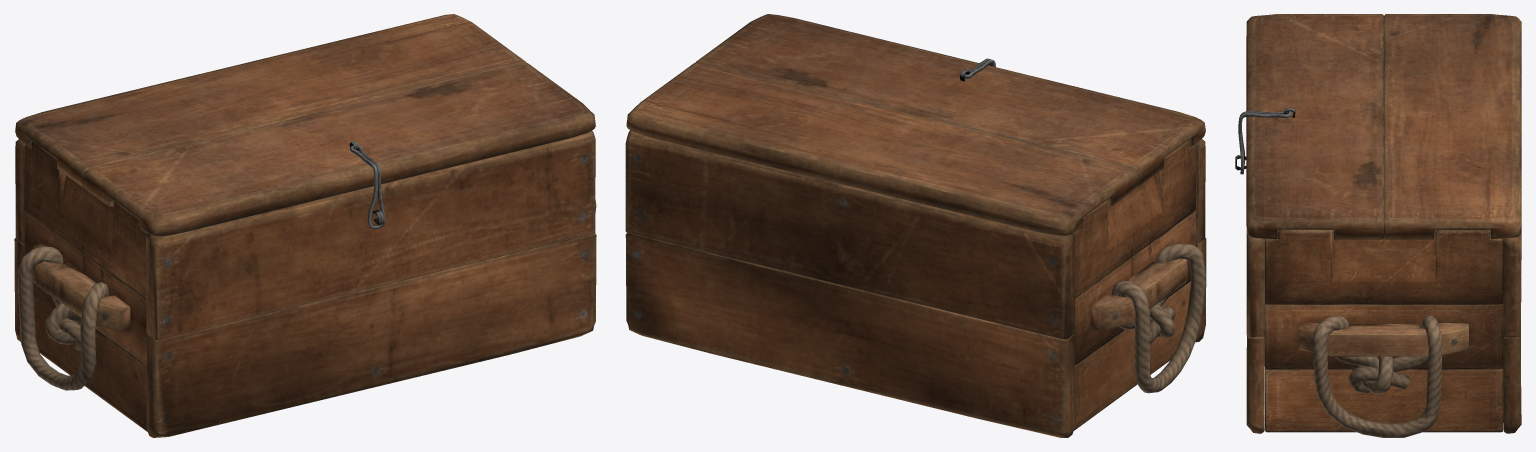
Rendered from wooden_crate_01.glb.
The picture shows the model from 3 angles, left to right: view 1: azimuth 30°, elevation 25°; view 2: azimuth 150°, elevation 25°; view 3: azimuth 270°, elevation 25°; orthographic projection. The views are drawn at different scales.
Visible parts, largest first — view 1: wooden_crate_01, wooden_crate_01_lid, wooden_crate_01_latch; view 2: wooden_crate_01, wooden_crate_01_lid; view 3: wooden_crate_01_lid, wooden_crate_01, wooden_crate_01_latch.
Boxes of the visible parts, left/top/right/bottom form: wooden_crate_01: left=14, top=131, right=596, bottom=437; wooden_crate_01_lid: left=15, top=14, right=595, bottom=236; wooden_crate_01_latch: left=350, top=145, right=385, bottom=229; wooden_crate_01: left=625, top=130, right=1206, bottom=437; wooden_crate_01_lid: left=626, top=14, right=1205, bottom=236; wooden_crate_01_lid: left=1246, top=14, right=1521, bottom=239; wooden_crate_01: left=1235, top=155, right=1521, bottom=437; wooden_crate_01_latch: left=1238, top=111, right=1291, bottom=174.
Size of the model in its own units: 0.8253 by 0.3495 by 0.4072.
1 material, 1 textured.
